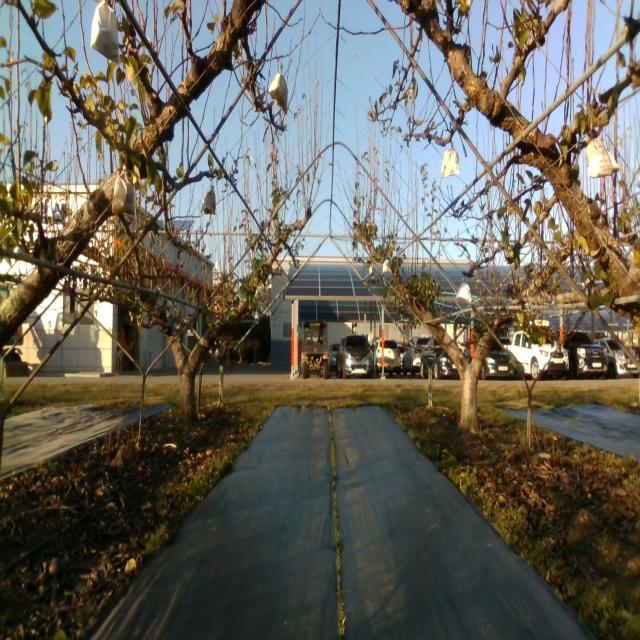pearbags: (90, 0, 119, 70), (585, 137, 621, 178), (112, 165, 136, 215), (268, 63, 289, 116), (440, 143, 459, 179), (200, 184, 216, 217), (456, 278, 471, 308)
